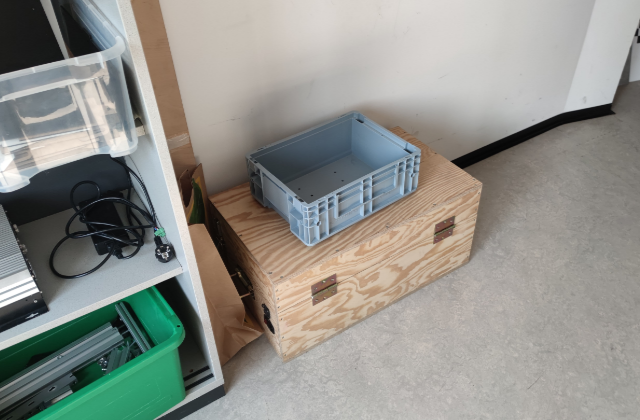Box: (243, 109, 423, 246)
